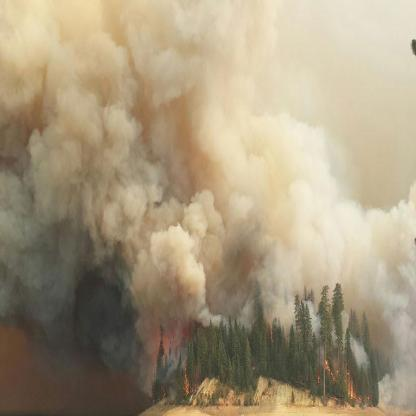fire: (144, 316, 203, 394), (318, 353, 356, 396)
smoke: (1, 2, 364, 325)
